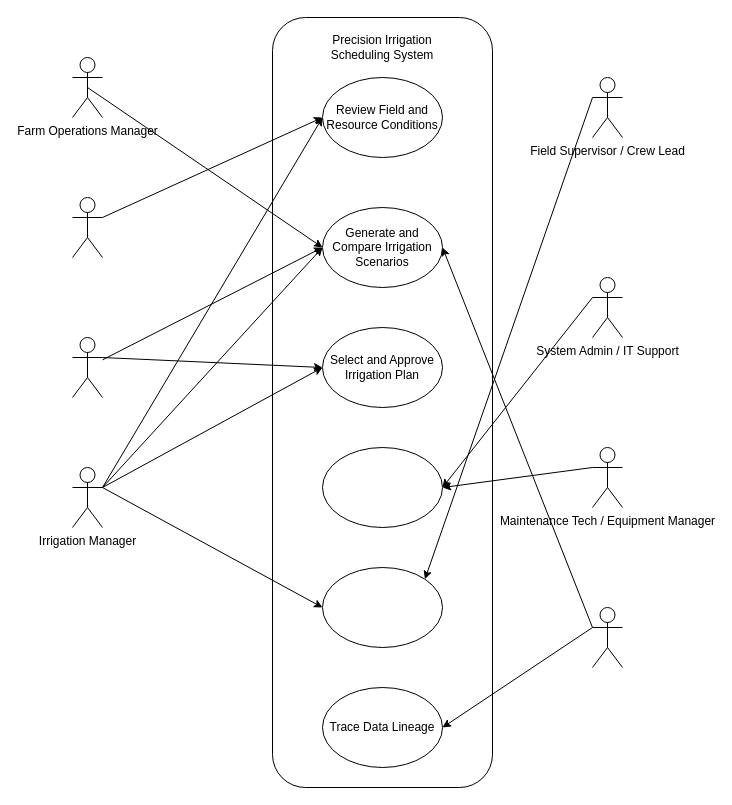
This 732x805 diagram has some shape labels left out. The shapes that lost their labels are listed below. From the top down, each one's centre as x and y in pixels, then its label:
At point 87,227: "Agronomist / Crop Advisor".
At point 87,367: "Grower / Farm Owner".
At point 382,487: "Maintain System Operation".
At point 382,607: "Pull Reports and Verify Plan".
At point 607,637: "Data Analyst".
